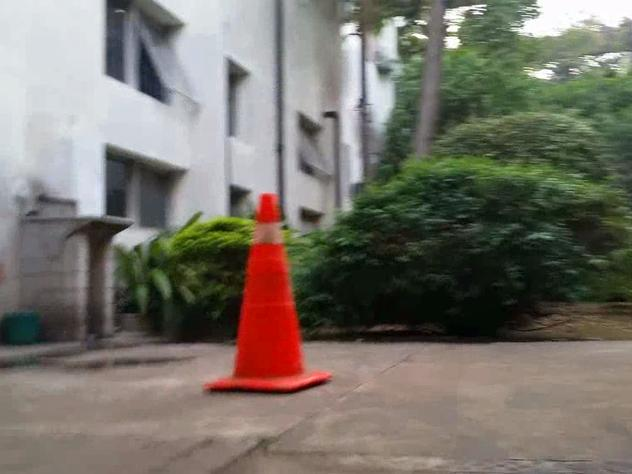0 cone: (204, 193, 329, 393)
